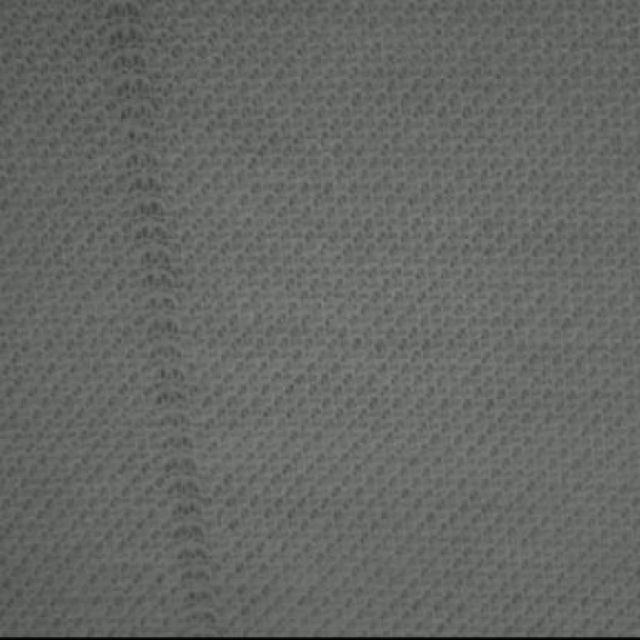Line: (102, 0, 215, 633)
